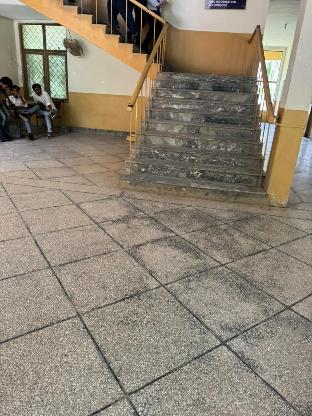stair: (132, 61, 274, 207)
